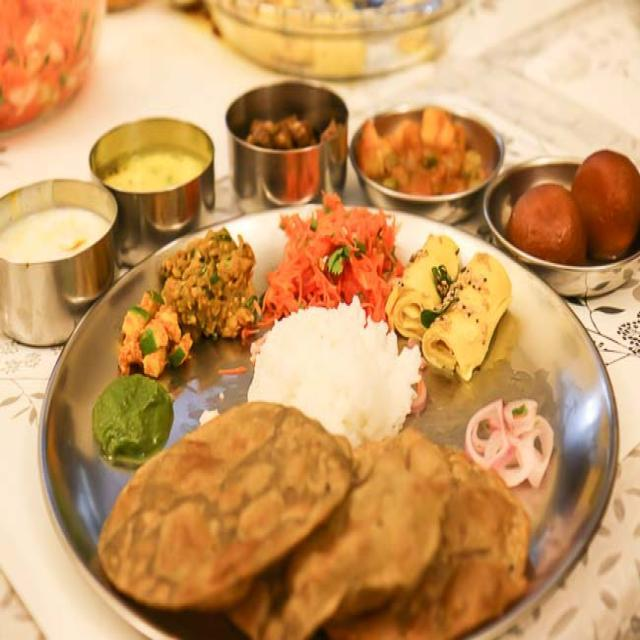papad: (251, 292, 416, 452)
rice: (249, 294, 420, 452), (152, 223, 268, 366)
roti: (286, 424, 519, 630), (551, 448, 636, 640)
sambar-rasam: (491, 166, 611, 270)
sweet: (465, 390, 549, 481)
veg-fry: (255, 183, 400, 335), (350, 95, 492, 208)
